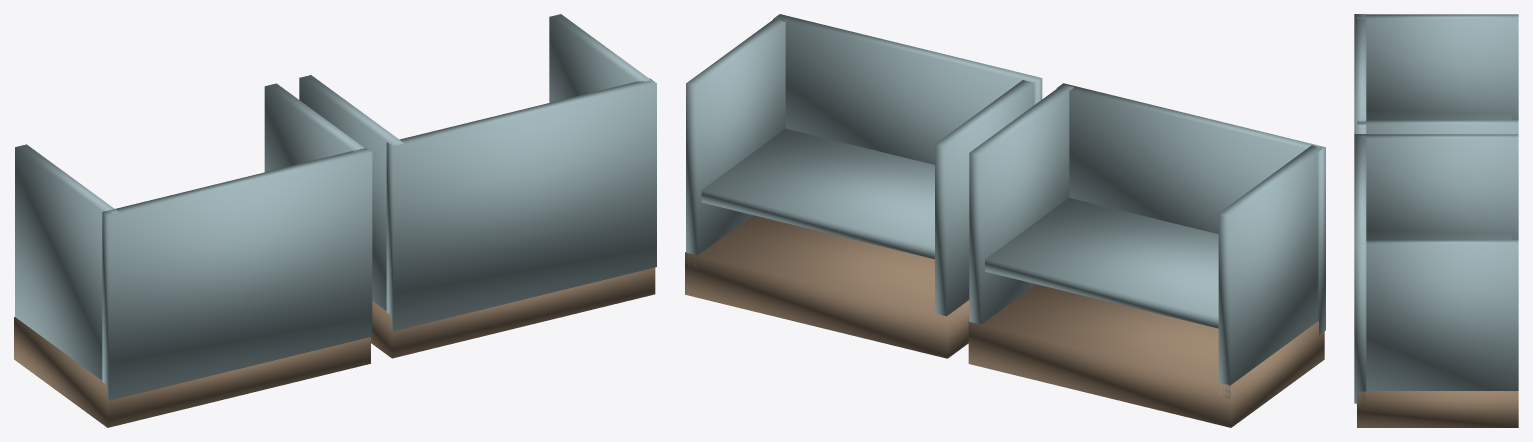
The model's file is pastry_case__cluster.glb.
The picture shows the model from 3 angles, left to right: view 1: azimuth 30°, elevation 25°; view 2: azimuth 150°, elevation 25°; view 3: azimuth 270°, elevation 25°; orthographic projection. The views are drawn at different scales.
Parts seen in each view (by area): view 1: world; view 2: world; view 3: world.
Boxes of the visible parts, left/top/right/bottom form: world: left=14, top=14, right=656, bottom=427; world: left=685, top=14, right=1325, bottom=427; world: left=1354, top=14, right=1518, bottom=427.
Bounding box in the file's own units: 1.62 × 0.6 × 0.4875.
